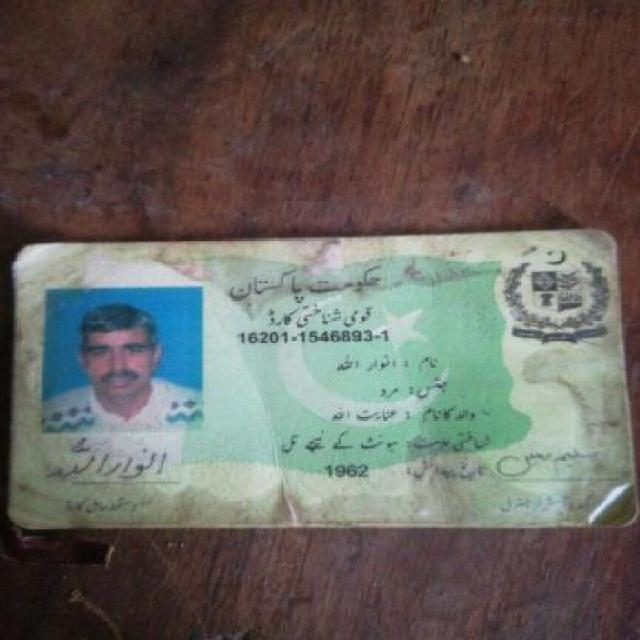Front: (15, 237, 623, 532)
